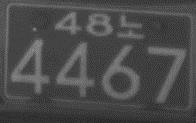4: (55, 40, 95, 98), (10, 38, 50, 95), (53, 10, 82, 36)
6: (101, 41, 140, 100)
7: (146, 46, 188, 103)
8: (86, 11, 113, 36)
노: (117, 13, 145, 39)
